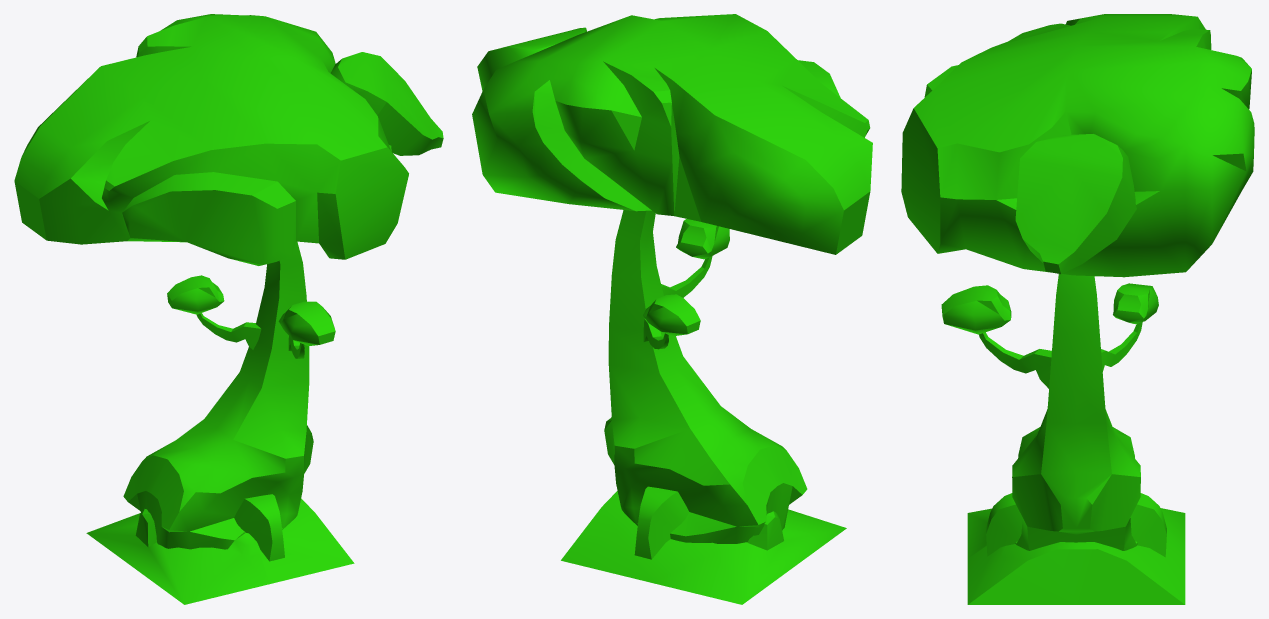
File: FOL_Foliage_01.FBX
3 renders of one model, left to right at view 1: azimuth 30°, elevation 25°; view 2: azimuth 150°, elevation 25°; view 3: azimuth 270°, elevation 25°, orthographic. The views are drawn at different scales.
Visible parts, largest first — view 1: FOL_Foliage_01; view 2: FOL_Foliage_01; view 3: FOL_Foliage_01.
Boxes of the visible parts, x1,y1,x2,y2 form: FOL_Foliage_01: [14, 14, 443, 604]; FOL_Foliage_01: [472, 14, 872, 604]; FOL_Foliage_01: [901, 14, 1254, 604].
Bounding box in the file's own units: 13.5 × 16.29 × 9.74.
